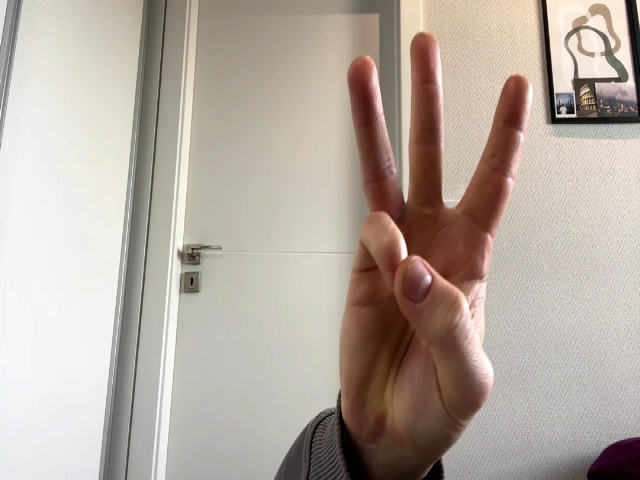W: (339, 33, 533, 442)
